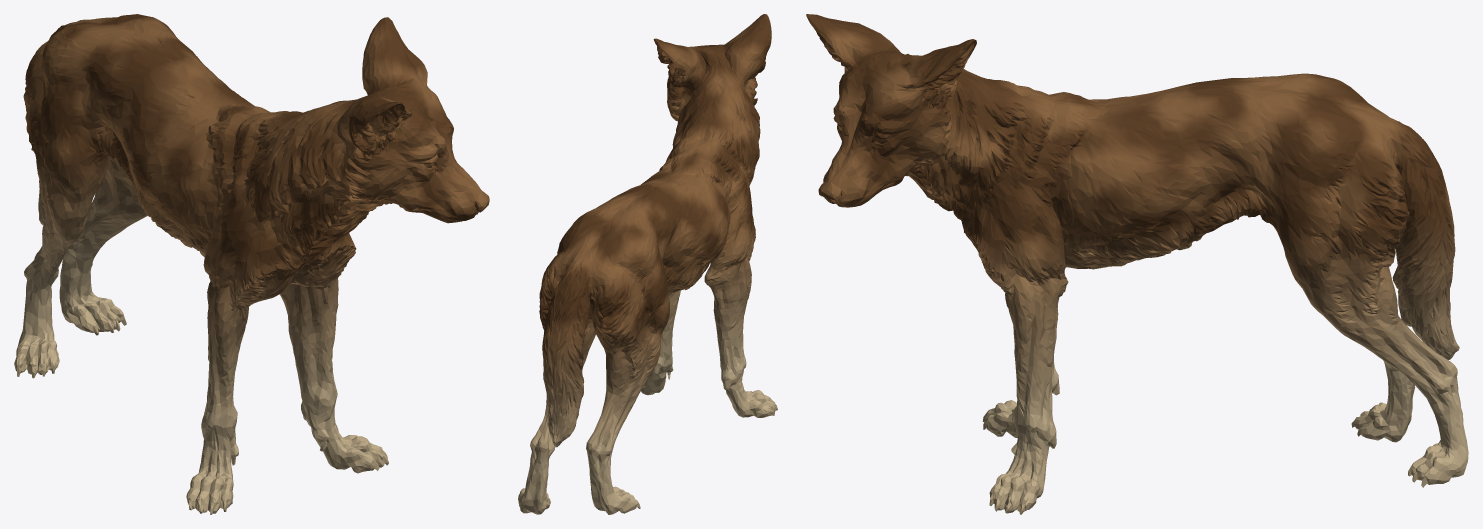
Rendered from animal_dingo_v1.glb.
The picture shows the model from 3 angles, left to right: view 1: azimuth 30°, elevation 25°; view 2: azimuth 150°, elevation 25°; view 3: azimuth 270°, elevation 25°; orthographic projection. The views are drawn at different scales.
Parts seen in each view (by area): view 1: dingo-stand-1-24; view 2: dingo-stand-1-24; view 3: dingo-stand-1-24.
Part boxes in pixels (<box>): dingo-stand-1-24: <box>14,14,489,514</box>; dingo-stand-1-24: <box>518,14,777,514</box>; dingo-stand-1-24: <box>806,14,1468,514</box>.
Size of the model in its own units: 17.02 by 34.91 by 44.81.
